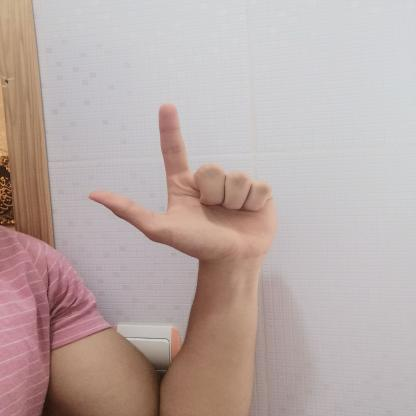LAAM: (72, 93, 291, 276)
